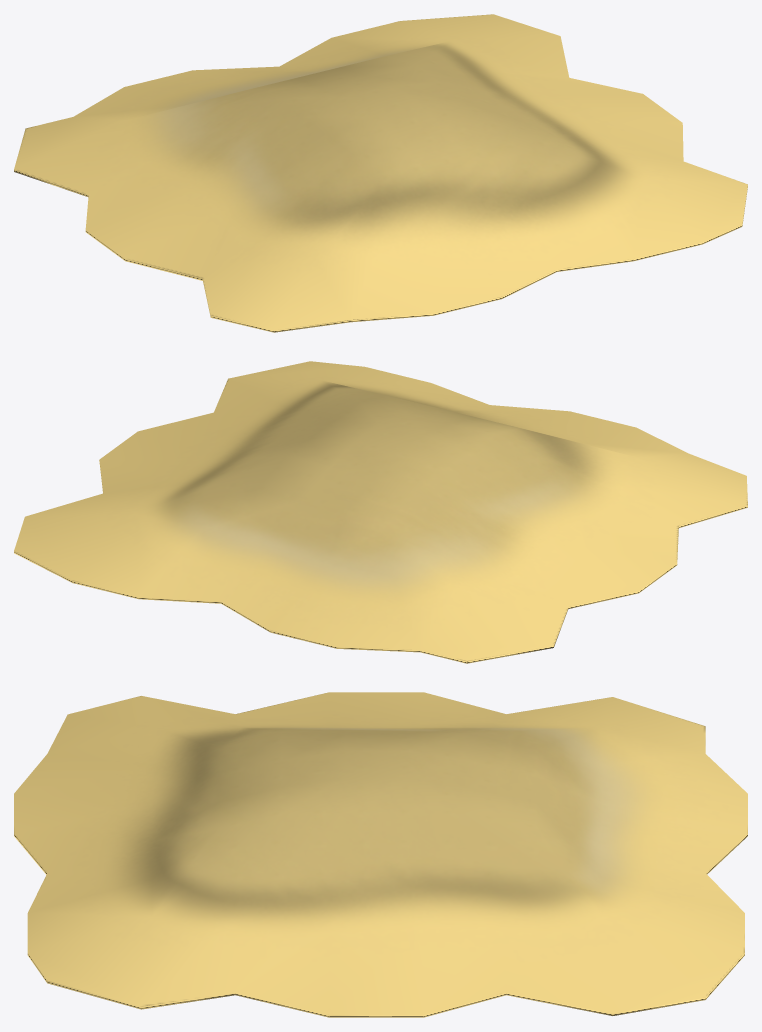
The model's file is Ravioli.fbx.
3 views of the same model, one above another, from view 1: azimuth 30°, elevation 25°; view 2: azimuth 150°, elevation 25°; view 3: azimuth 270°, elevation 25° (orthographic). The views are drawn at different scales.
Visible parts, largest first — view 1: pCube2; view 2: pCube2; view 3: pCube2.
Boxes of the visible parts, box(x1,y1,x2,y2) form: pCube2: box(14, 14, 747, 332); pCube2: box(14, 361, 747, 663); pCube2: box(14, 692, 747, 1017).
Size of the model in its own units: 1.21 by 0.2732 by 1.17.
